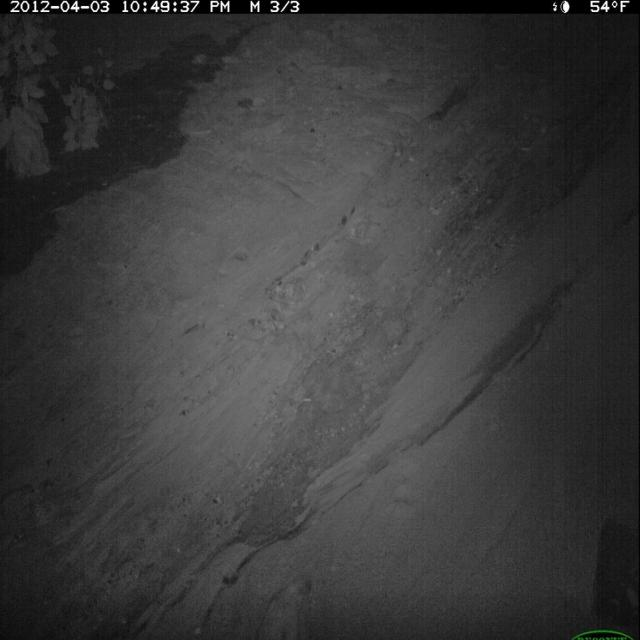bobcat: (2, 18, 639, 640)
